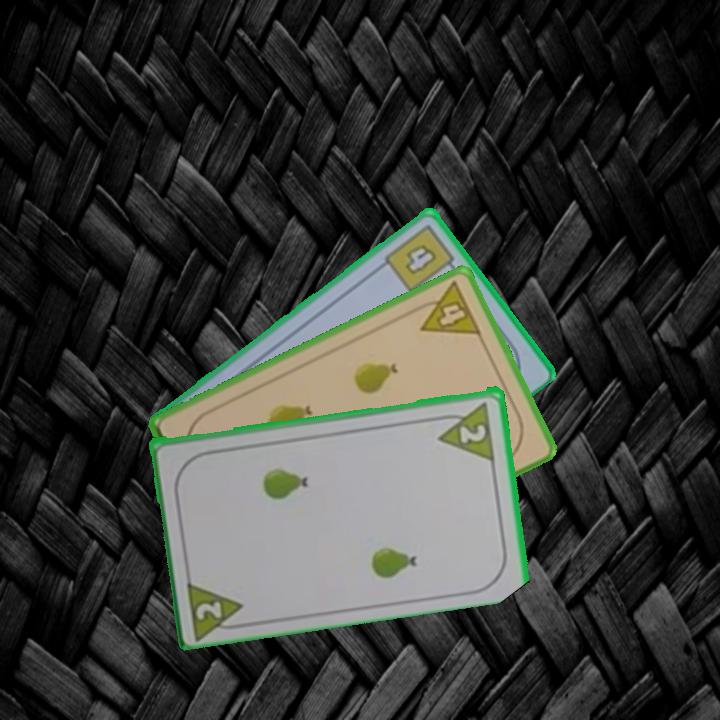2p: (183, 574, 251, 639), (433, 397, 498, 462)
4b: (380, 220, 462, 296)
4p: (408, 278, 484, 338)
